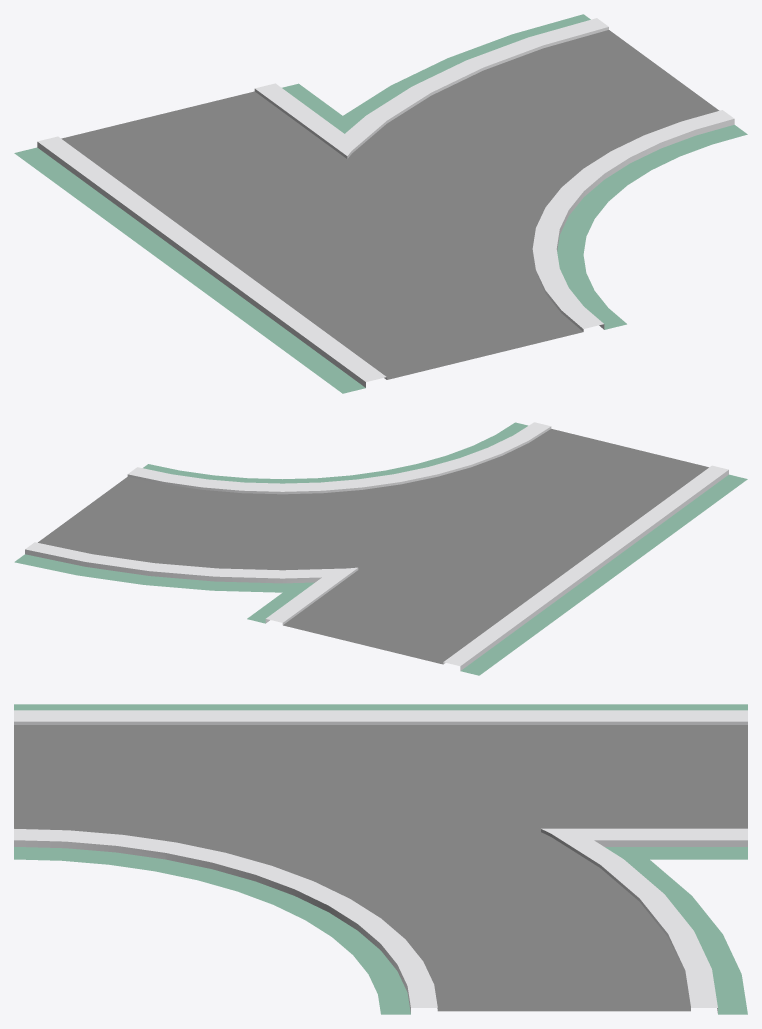
File: roadSplitLarge.glb
The picture shows the model from 3 angles, top to bottom: view 1: azimuth 30°, elevation 25°; view 2: azimuth 150°, elevation 25°; view 3: azimuth 270°, elevation 25°; orthographic projection. The views are drawn at different scales.
Parts seen in each view (by area): view 1: roadSplitLarge; view 2: roadSplitLarge; view 3: roadSplitLarge.
Boxes of the visible parts, left/top/right/bottom form: roadSplitLarge: left=14, top=14, right=747, bottom=393; roadSplitLarge: left=14, top=422, right=747, bottom=675; roadSplitLarge: left=14, top=704, right=747, bottom=1014.
Bounding box in the file's own units: 2.95 × 0.0295 × 2.95.
